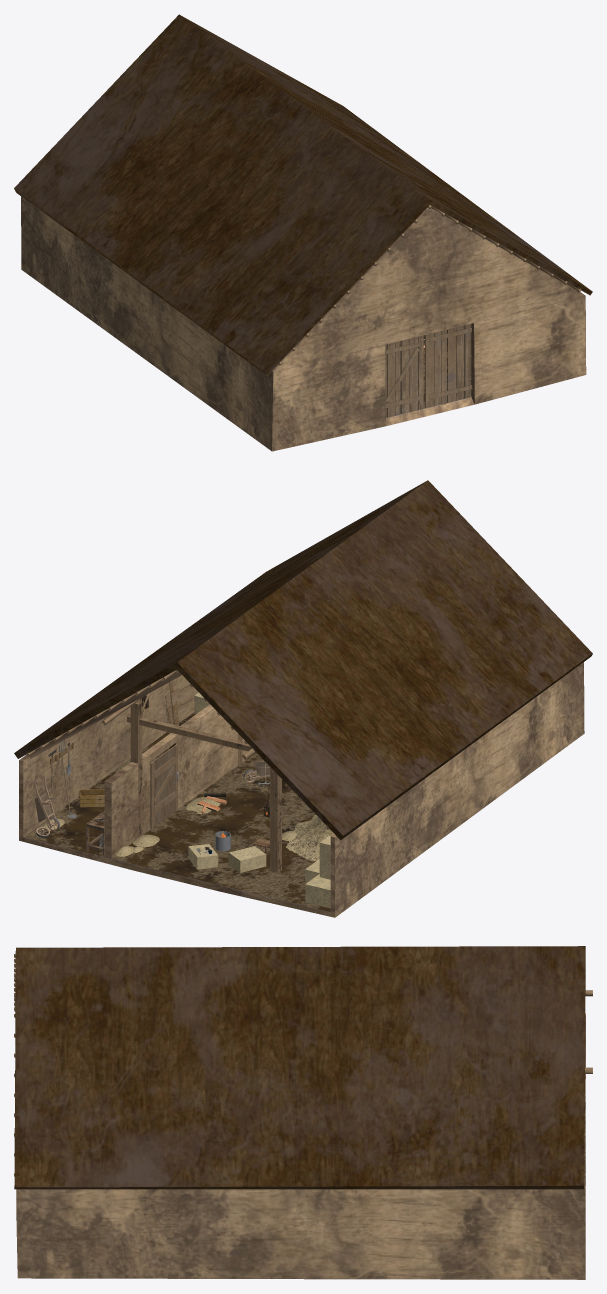
3 renders of one model, top to bottom at view 1: azimuth 30°, elevation 25°; view 2: azimuth 150°, elevation 25°; view 3: azimuth 270°, elevation 25°, orthographic. The views are drawn at different scales.
Visible parts, largest first — view 1: Barn_25, Door Main_23, Roof Beams_26; view 2: Barn_25, Support Beams_24, Door _22, Roof Beams_26, HayPile Large.001_49, Hay bay.002_29, Hay bay.011_37, Wheelbarrow_70, Hay bay.001_28; view 3: Barn_25.
Part boxes in pixels (left/top/right/bottom): Barn_25: left=14, top=14, right=592, bottom=451; Door Main_23: left=385, top=324, right=472, bottom=417; Roof Beams_26: left=278, top=205, right=580, bottom=365; Barn_25: left=14, top=480, right=592, bottom=917; Support Beams_24: left=127, top=692, right=281, bottom=872; Door _22: left=150, top=744, right=178, bottom=828; Roof Beams_26: left=26, top=670, right=328, bottom=829; HayPile Large.001_49: left=286, top=814, right=333, bottom=860; Hay bay.002_29: left=228, top=846, right=266, bottom=872; Hay bay.011_37: left=305, top=874, right=330, bottom=908; Wheelbarrow_70: left=34, top=776, right=59, bottom=830; Hay bay.001_28: left=188, top=844, right=218, bottom=869; Barn_25: left=14, top=946, right=585, bottom=1279.
Size of the model in its own units: 11.26 by 7.14 by 15.1.
24 materials, 24 textured.
